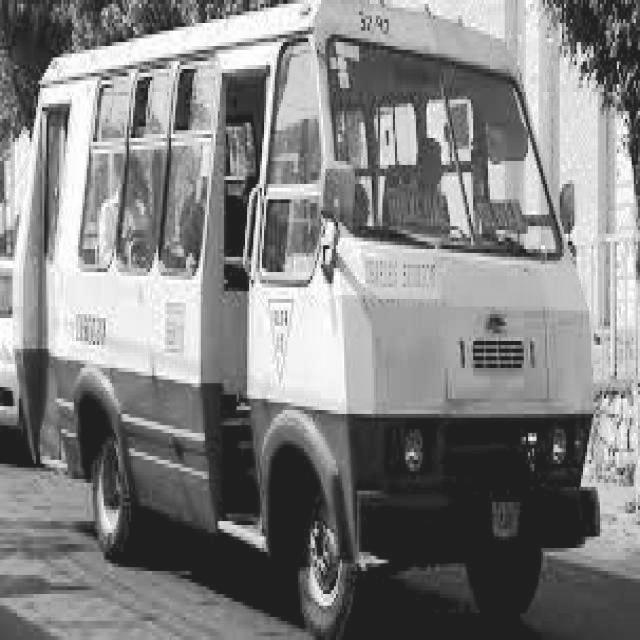Bus: (3, 0, 615, 620)
